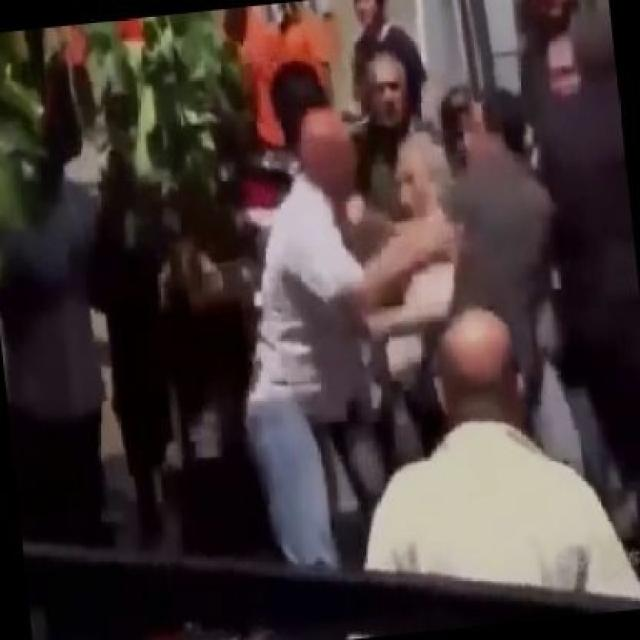fight: (232, 79, 560, 571)
